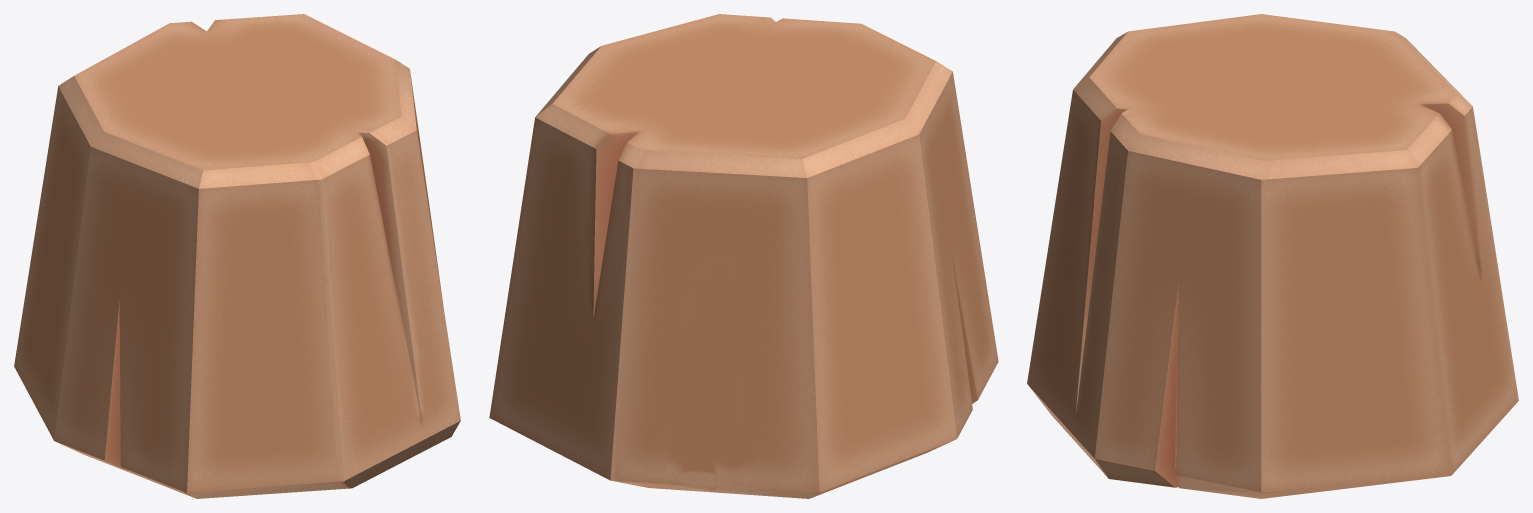
Rendered from rock_15.glb.
The picture shows the model from 3 angles, left to right: view 1: azimuth 30°, elevation 25°; view 2: azimuth 150°, elevation 25°; view 3: azimuth 270°, elevation 25°; orthographic projection. The views are drawn at different scales.
Parts seen in each view (by area): view 1: Rock_15; view 2: Rock_15; view 3: Rock_15.
Part boxes in pixels (x1=…): Rock_15: x1=14, y1=14, x2=460, y2=498; Rock_15: x1=489, y1=14, x2=998, y2=498; Rock_15: x1=1027, y1=14, x2=1518, y2=498.
Size of the model in its own units: 2.59 by 2 by 2.72.
1 material, 1 textured.
